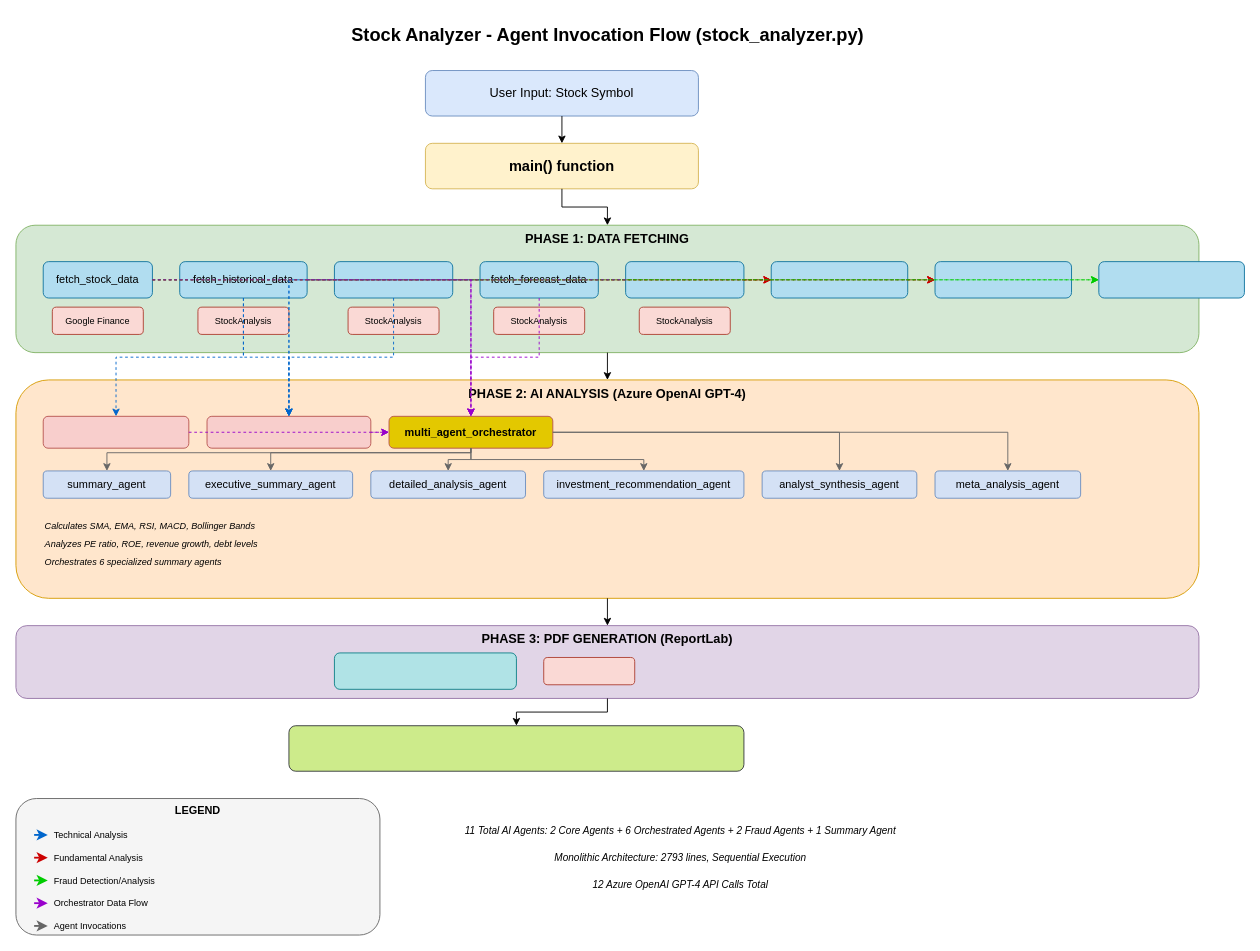
The diagram is 1260 pixels wide and 951 high, and some of its shapes have lost their labels. Here are the shapes that lost their labels. From the top down, the centre of each, then its label:
the point at 393,279: fetch_financial_data
the point at 684,279: fetch_news_urls
the point at 839,279: fraud_detection_agent
the point at 1003,279: fraud_analysis_agent
the point at 1171,279: generate_stock_summary
the point at 115,431: technical_analysis_agent
the point at 288,431: fundamental_analysis_agent
the point at 425,670: generate_pdf_report
the point at 589,671: ReportLab
the point at 516,748: OUTPUT: Stock Analysis PDF Report
